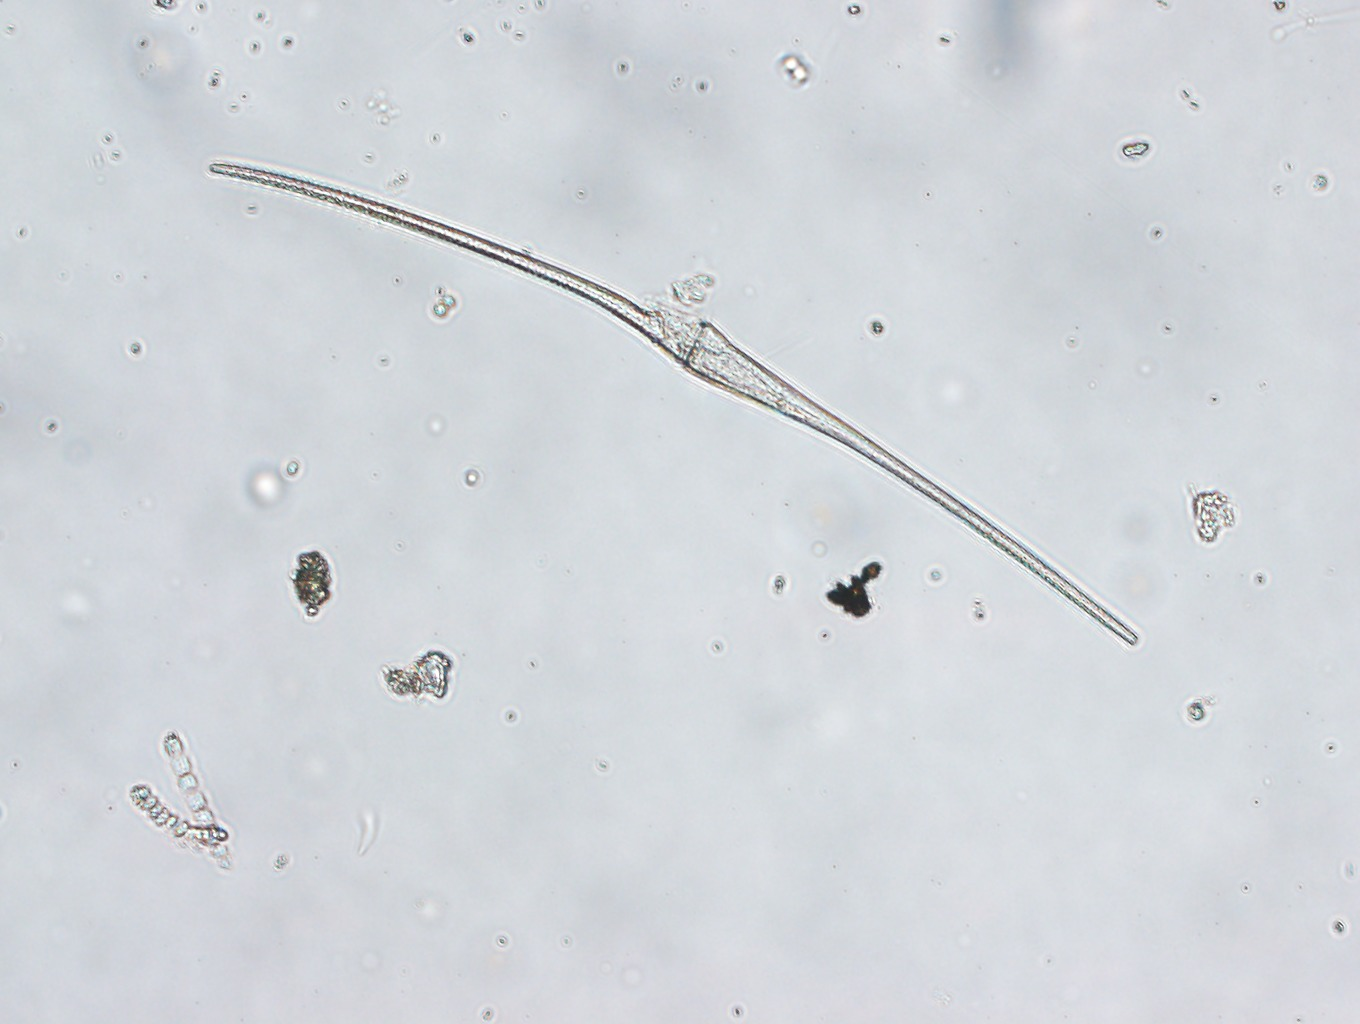ceratium fusus: (203, 152, 1146, 652)
